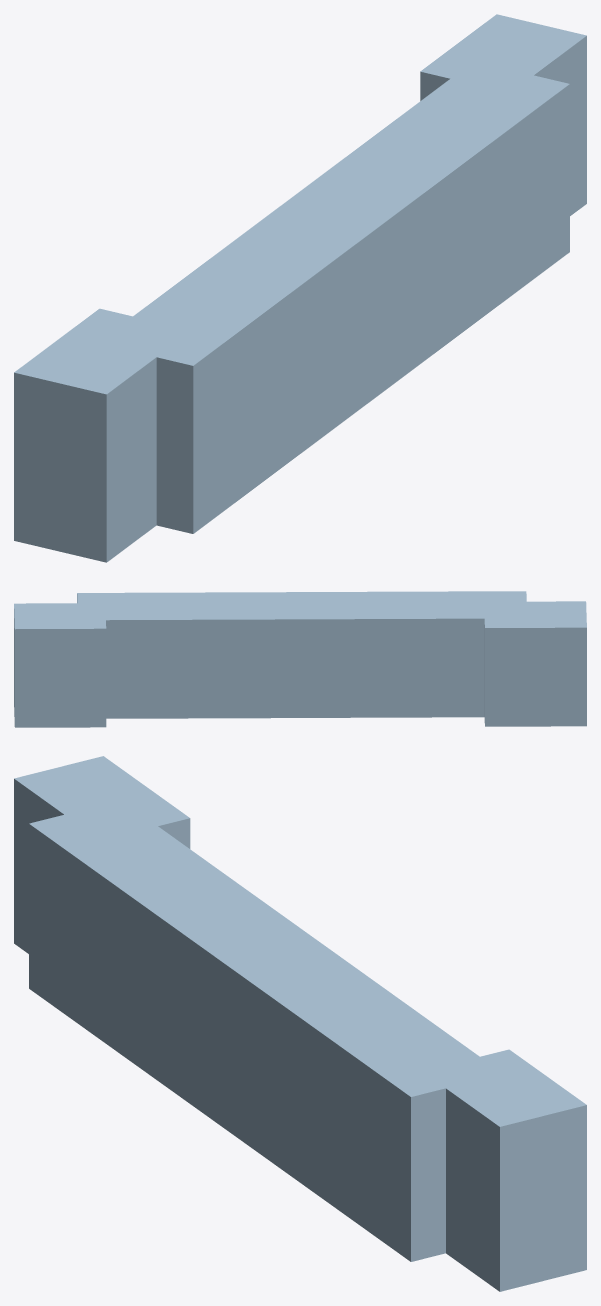
Rendered from osm_way_225198913.glb.
The picture shows the model from 3 angles, top to bottom: view 1: azimuth 30°, elevation 25°; view 2: azimuth 150°, elevation 25°; view 3: azimuth 270°, elevation 25°; orthographic projection. The views are drawn at different scales.
Parts seen in each view (by area): view 1: osm_way_225198913; view 2: osm_way_225198913; view 3: osm_way_225198913.
Part boxes in pixels (x1,y1,x2,y2): osm_way_225198913: [14, 14, 586, 562]; osm_way_225198913: [14, 591, 586, 727]; osm_way_225198913: [14, 756, 586, 1291].
Size of the model in its own units: 92.57 by 19.2 by 60.43.
